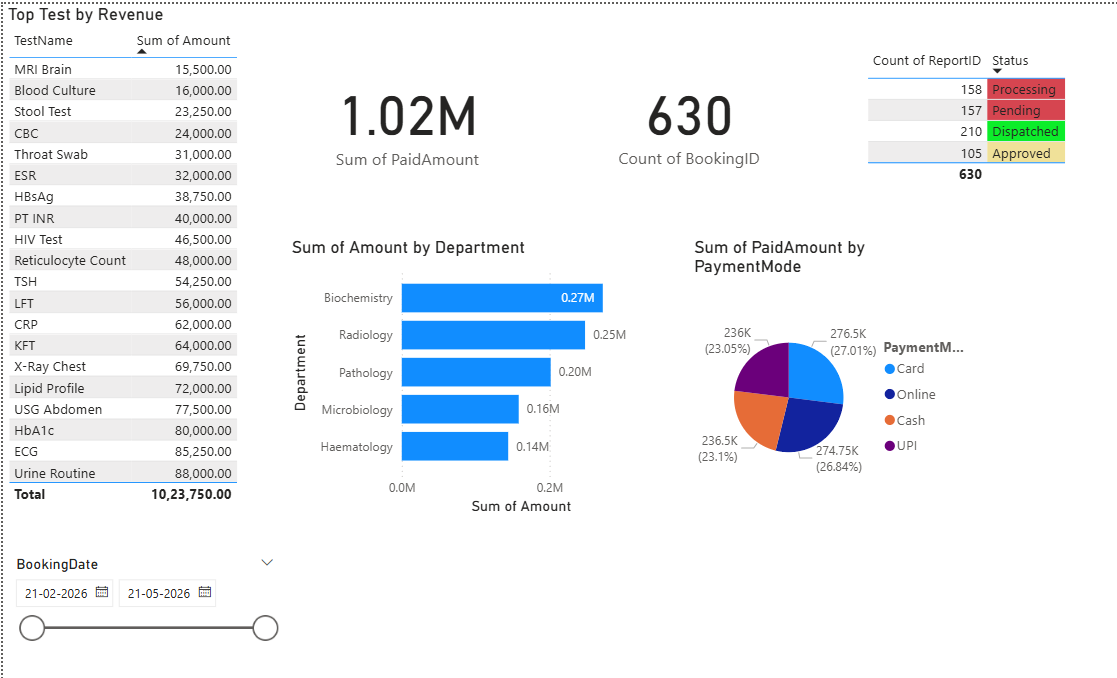

The dashboard page shown, as its layout file describes it:
{"tool":"powerbi","page":{"name":"Page 1","canvas":[1280,720],"ordinal":0},"visuals":[{"type":"card","fields":{"Values":["CountNonNull(lab Booking.BookingID)"]},"box":[540.7,0,274.4,227.8],"z":0},{"type":"card","fields":{"Values":["Sum(lab Payment.PaidAmount)"]},"box":[279.9,0,238.8,229.2],"z":1000},{"type":"clusteredBarChart","fields":{"Category":["lab Test.Department"],"Y":["Sum(lab BookingTest.Amount)"]},"box":[279.9,229.2,369.1,279.9],"z":2000},{"type":"pieChart","fields":{"Category":["lab Payment.PaymentMode"],"Y":["Sum(lab Payment.PaidAmount)"]},"box":[677.9,229.2,279.9,279.9],"z":3000},{"type":"tableEx","title":"Top Test by Revenue","fields":{"Values":["lab Test.TestName","Sum(lab BookingTest.Amount)"]},"box":[0,0,279.9,509.1],"z":4000},{"type":"slicer","fields":{"Values":["lab Booking.BookingDate"]},"box":[0,539.3,279.9,150.9],"z":5000},{"type":"tableEx","fields":{"Values":["CountNonNull(lab Report.ReportID)","lab Report.Status"]},"box":[848,39.8,242.9,175.6],"z":5001}]}

Visuals, with their boxes on the page's 1280x720 design canvas (x1, y1, x2, y2). These are canvas units, not pixel positions in the 1117x678 screenshot, which may show the page scaled, cropped or inside an application window:
card - CountNonNull(lab Booking.BookingID): (left=541, top=0, right=815, bottom=228)
card - Sum(lab Payment.PaidAmount): (left=280, top=0, right=519, bottom=229)
clusteredBarChart - lab Test.Department x Sum(lab BookingTest.Amount): (left=280, top=229, right=649, bottom=509)
pieChart - lab Payment.PaymentMode x Sum(lab Payment.PaidAmount): (left=678, top=229, right=958, bottom=509)
"Top Test by Revenue" tableEx: (left=0, top=0, right=280, bottom=509)
slicer - lab Booking.BookingDate: (left=0, top=539, right=280, bottom=690)
tableEx - CountNonNull(lab Report.ReportID) x lab Report.Status: (left=848, top=40, right=1091, bottom=215)
